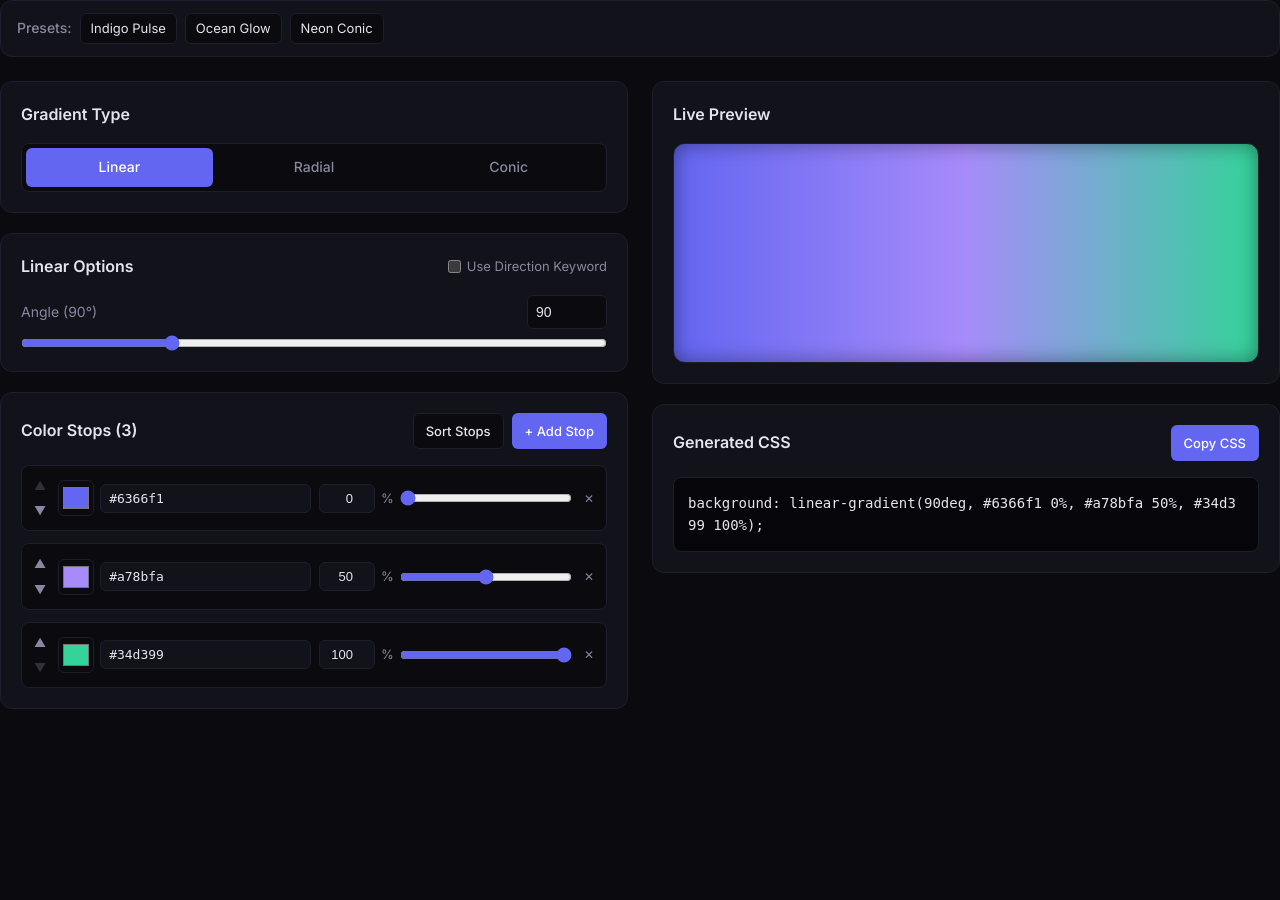
Test: CssGradientTool Component › surfaces role="alert" error message on invalid color input
Replace the text in the field named "Color text input for stop" with "invalid-color-value" at (206, 498), box [100, 484, 311, 513]
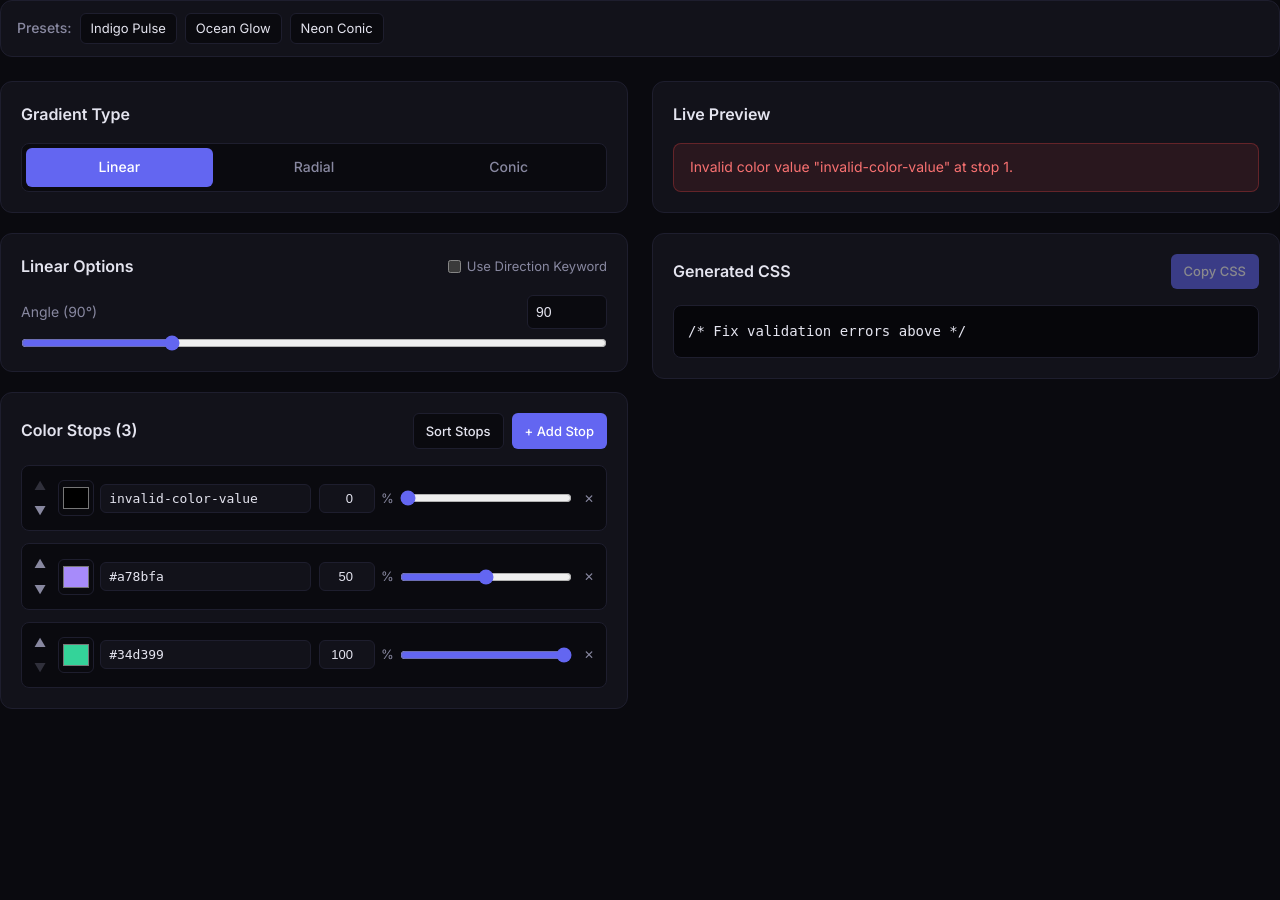
Now the message "Invalid color value \"invalid-color-value\" at stop 1." is shown, box [673, 143, 1259, 192]
